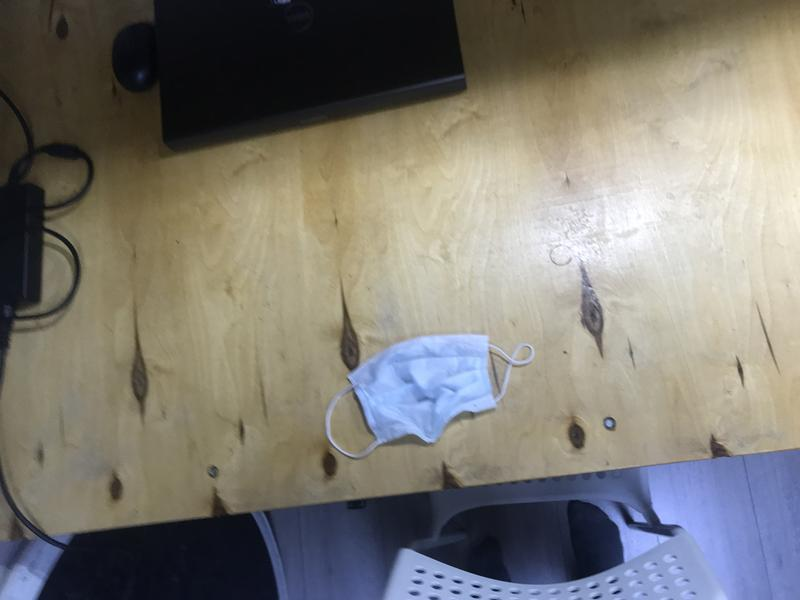medical_mask: (324, 332, 534, 459)
